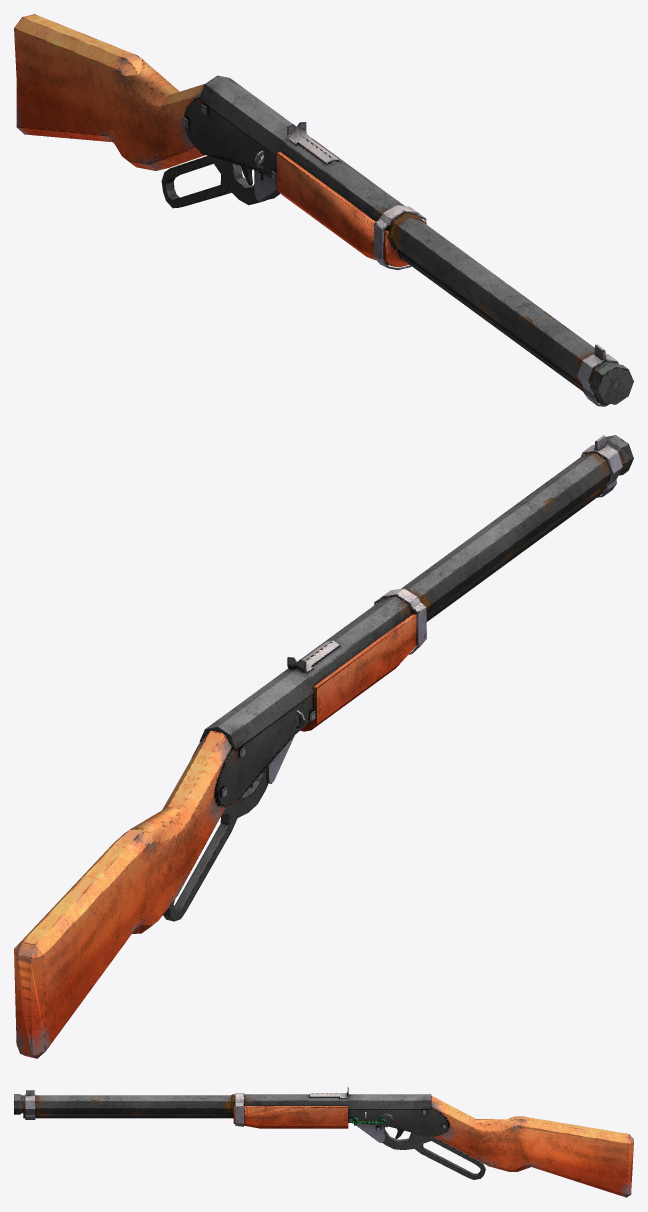
The model's file is item_bb_gun.glb.
3 views of the same model, one above another, from view 1: azimuth 30°, elevation 25°; view 2: azimuth 150°, elevation 25°; view 3: azimuth 270°, elevation 25° (orthographic). The views are drawn at different scales.
Parts seen in each view (by area): view 1: BBGun, BBGun_reload; view 2: BBGun, BBGun_reload; view 3: BBGun, BBGun_reload, BBGun_keychain.
Boxes of the visible parts, x1=… form: BBGun: x1=14, y1=14, x2=633, y2=406; BBGun_reload: x1=161, y1=156, x2=265, y2=208; BBGun: x1=14, y1=435, x2=633, y2=1058; BBGun_reload: x1=163, y1=769, x2=268, y2=921; BBGun: x1=14, y1=1087, x2=633, y2=1197; BBGun_reload: x1=383, y1=1129, x2=485, y2=1179; BBGun_keychain: x1=350, y1=1113, x2=393, y2=1127.
Bounding box in the file's own units: 0.0729 × 0.2533 × 1.33.
2 materials, 2 textured.
